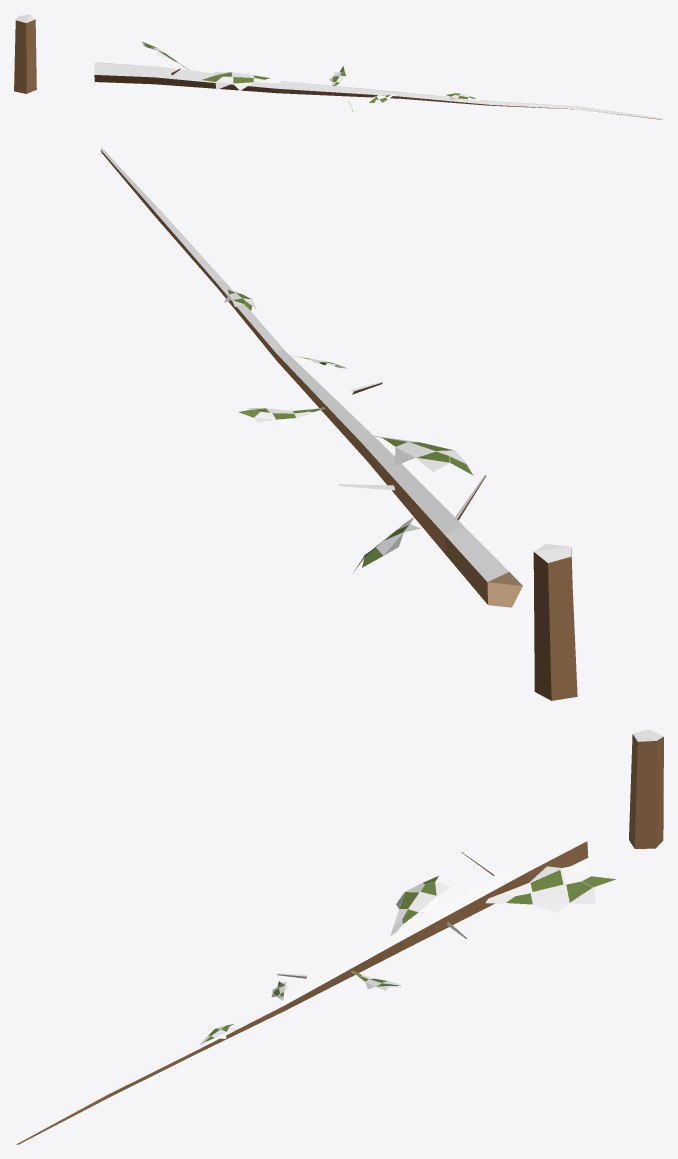
File: Dead_Pine_Tree_crk_l_Snow_09_LOD.fbx
3 renders of one model, top to bottom at view 1: azimuth 30°, elevation 25°; view 2: azimuth 150°, elevation 25°; view 3: azimuth 270°, elevation 25°, orthographic. The views are drawn at different scales.
Parts seen in each view (by area): view 1: Dead_Pine_Tree_crk_l_Snow_09_LOD0; view 2: Dead_Pine_Tree_crk_l_Snow_09_LOD0; view 3: Dead_Pine_Tree_crk_l_Snow_09_LOD0.
Part boxes in pixels (x1,y1,x2,y2): Dead_Pine_Tree_crk_l_Snow_09_LOD0: [14, 14, 663, 119]; Dead_Pine_Tree_crk_l_Snow_09_LOD0: [100, 148, 577, 700]; Dead_Pine_Tree_crk_l_Snow_09_LOD0: [14, 729, 663, 1144].
Size of what is drawn, in the model's own units: 1519 by 230 by 1255.
